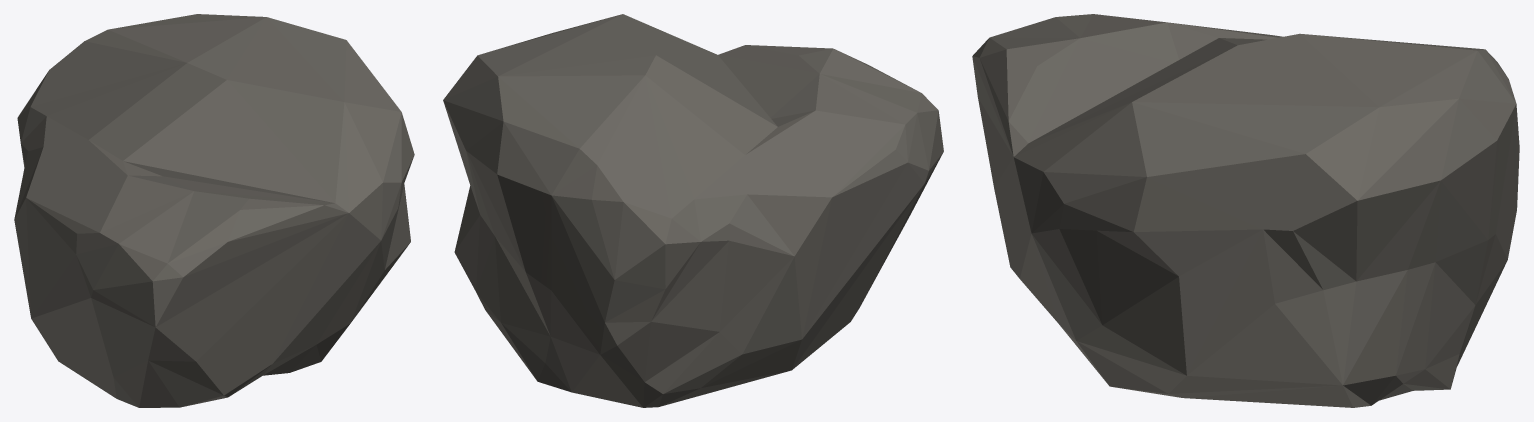
File: bog_rock_b.gltf
The picture shows the model from 3 angles, left to right: view 1: azimuth 30°, elevation 25°; view 2: azimuth 150°, elevation 25°; view 3: azimuth 270°, elevation 25°; orthographic projection. The views are drawn at different scales.
Visible parts, largest first — view 1: bog_rock_b; view 2: bog_rock_b; view 3: bog_rock_b.
Part boxes in pixels (x1,y1,x2,y2): bog_rock_b: (14,14,414,407); bog_rock_b: (443,14,943,407); bog_rock_b: (972,14,1519,407).
Size of the model in its own units: 1.7 by 1.19 by 1.78.
Materials: 1 (1 with a texture image).
